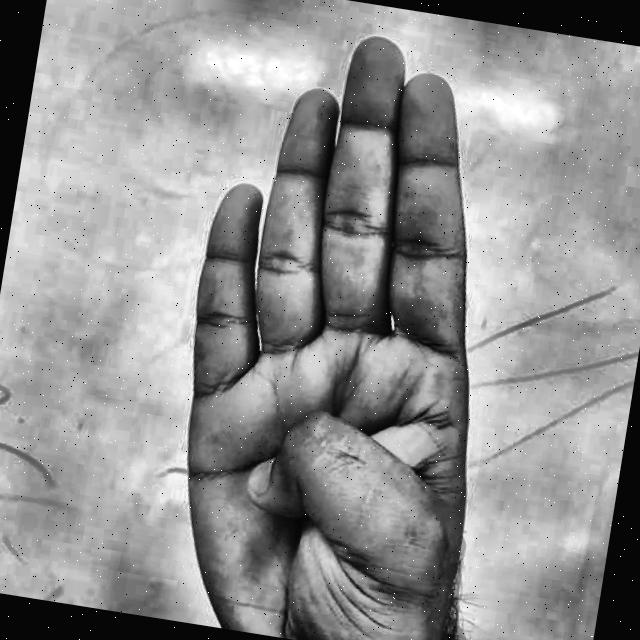Ba: (108, 0, 573, 640)
